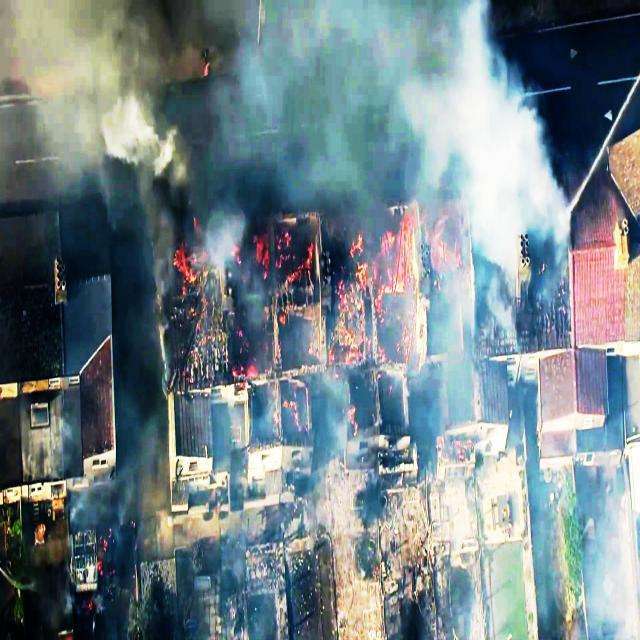Fire: (375, 204, 412, 290)
Smoke: (285, 3, 495, 177), (440, 52, 556, 244)
